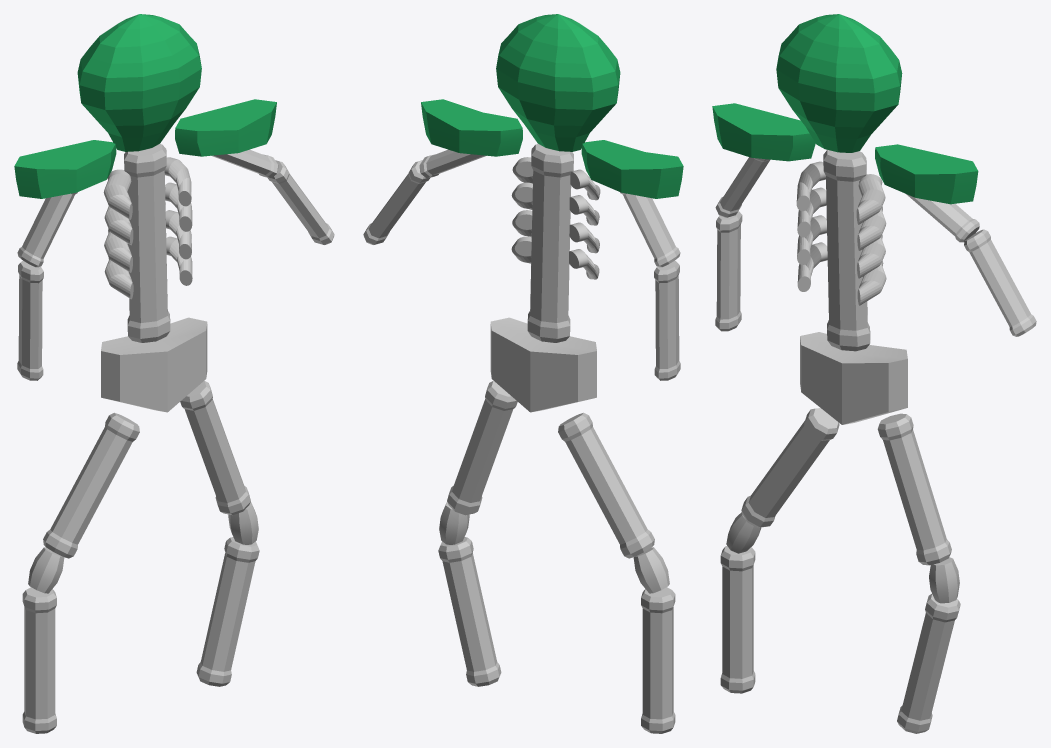
Rendered from Skeleton_Grunt.fbx.
3 renders of one model, left to right at view 1: azimuth 30°, elevation 25°; view 2: azimuth 150°, elevation 25°; view 3: azimuth 330°, elevation 25°, orthographic.
Parts seen in each view (by area): view 1: pSphere1, pCylinder1, Bone4, Bone1, Bone3, Bone, pCylinder3, pCylinder2, Bone2, Bone8, Bone5, Bone7 (+11 smaller); view 2: pSphere1, Bone4, pCylinder1, Bone1, Bone3, Bone, pCylinder3, pCylinder2, Bone2, Bone8, Bone5, Bone7 (+7 smaller); view 3: pSphere1, pCylinder1, Bone4, Bone2, Bone, pCylinder2, pCylinder3, Bone1, Bone3, Bone7, Bone8, Bone5 (+11 smaller).
Boxes of the visible parts, x1=… form: pSphere1: x1=77, y1=14, x2=201, y2=151; pCylinder1: x1=101, y1=317, x2=207, y2=412; Bone4: x1=124, y1=144, x2=170, y2=342; Bone1: x1=43, y1=412, x2=139, y2=558; Bone3: x1=196, y1=537, x2=259, y2=686; Bone: x1=22, y1=587, x2=56, y2=733; pCylinder3: x1=14, y1=140, x2=116, y2=198; pCylinder2: x1=175, y1=99, x2=276, y2=156; Bone2: x1=180, y1=380, x2=250, y2=515; Bone8: x1=17, y1=260, x2=43, y2=380; Bone5: x1=17, y1=192, x2=77, y2=267; Bone7: x1=267, y1=160, x2=334, y2=244; pSphere1: x1=496, y1=14, x2=620, y2=151; Bone4: x1=527, y1=144, x2=573, y2=342; pCylinder1: x1=490, y1=317, x2=596, y2=412; Bone1: x1=558, y1=412, x2=654, y2=558; Bone3: x1=438, y1=537, x2=501, y2=686; Bone: x1=641, y1=587, x2=675, y2=733; pCylinder3: x1=581, y1=140, x2=683, y2=198; pCylinder2: x1=421, y1=99, x2=522, y2=156; Bone2: x1=447, y1=380, x2=517, y2=515; Bone8: x1=654, y1=260, x2=680, y2=380; Bone5: x1=620, y1=192, x2=680, y2=267; Bone7: x1=363, y1=160, x2=430, y2=244; pSphere1: x1=776, y1=14, x2=902, y2=152; pCylinder1: x1=800, y1=332, x2=907, y2=424; Bone4: x1=823, y1=150, x2=870, y2=351; Bone2: x1=877, y1=413, x2=951, y2=565; Bone: x1=720, y1=546, x2=755, y2=693; pCylinder2: x1=875, y1=144, x2=978, y2=204; pCylinder3: x1=712, y1=103, x2=815, y2=161; Bone1: x1=741, y1=408, x2=839, y2=527; Bone3: x1=897, y1=594, x2=960, y2=733; Bone7: x1=964, y1=229, x2=1036, y2=336; Bone8: x1=715, y1=211, x2=742, y2=331; Bone5: x1=715, y1=157, x2=770, y2=217.
Size of the model in its own units: 4.57 by 9.52 by 1.1.
